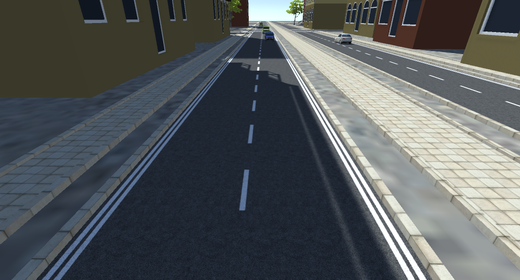centerstrip: (226, 81, 262, 266), (446, 77, 492, 98)
sidestripe: (44, 63, 224, 278), (308, 91, 429, 278), (280, 50, 308, 93)
